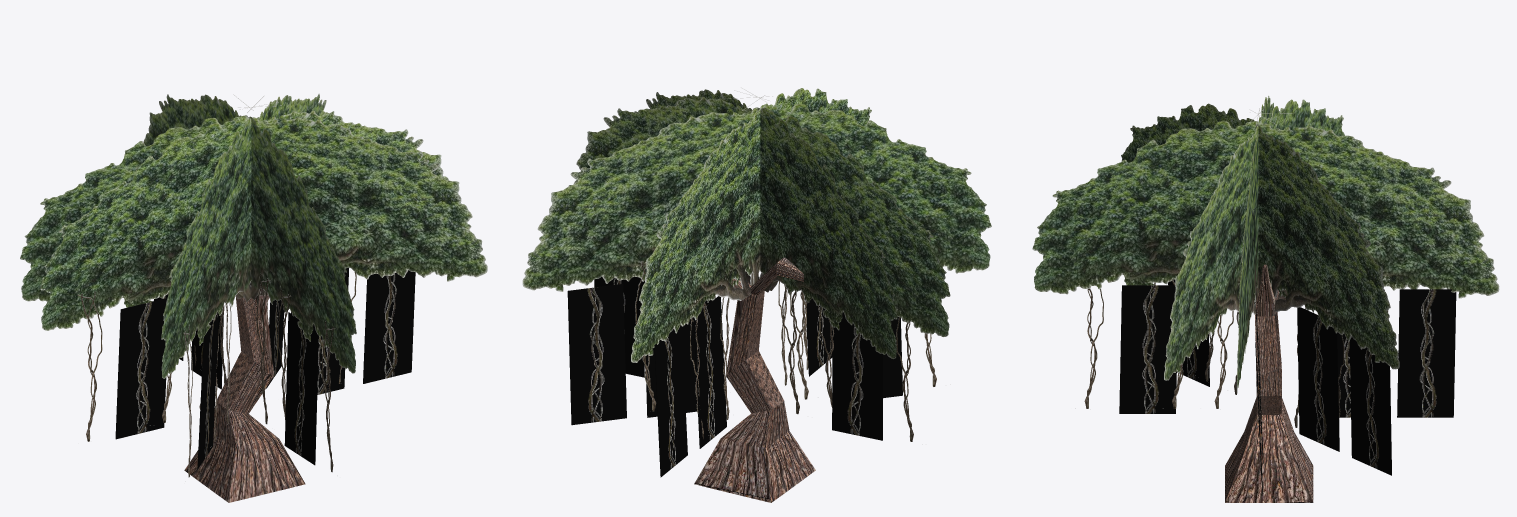
File: treetype1.fbx
3 views of the same model, side by side, from view 1: azimuth 30°, elevation 25°; view 2: azimuth 150°, elevation 25°; view 3: azimuth 270°, elevation 25° (orthographic).
Parts seen in each view (by area): view 1: images.014; view 2: images.014; view 3: images.014.
Part boxes in pixels (x1=…): images.014: x1=20, y1=93, x2=487, y2=502; images.014: x1=522, y1=87, x2=991, y2=502; images.014: x1=1032, y1=96, x2=1499, y2=502.
Bounding box in the file's own units: 1927 × 1664 × 1933.
